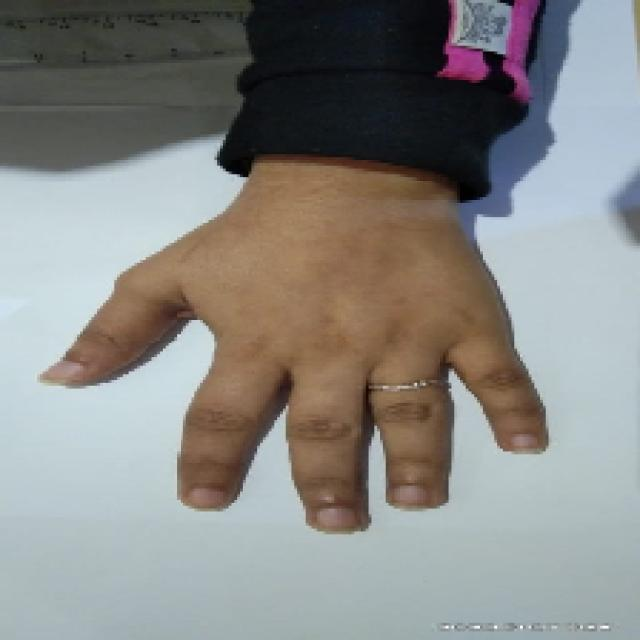Nail: (39, 359, 85, 384), (316, 506, 356, 531), (391, 485, 428, 507), (188, 488, 226, 508), (510, 432, 539, 451)
